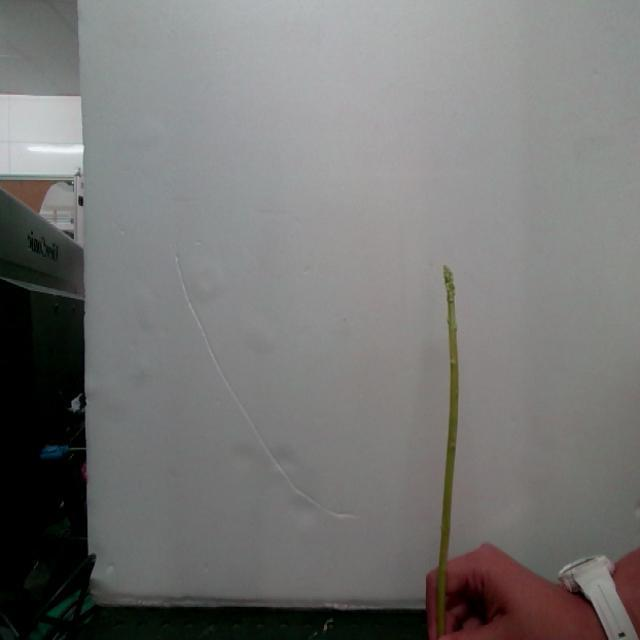aspargus: (433, 267, 461, 640)
